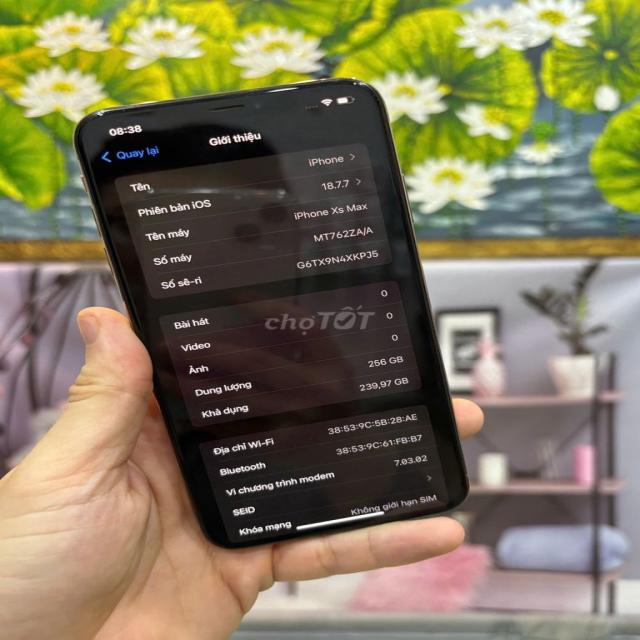gen_x_xs: (74, 78, 468, 548)
scratch: (72, 103, 128, 131)
